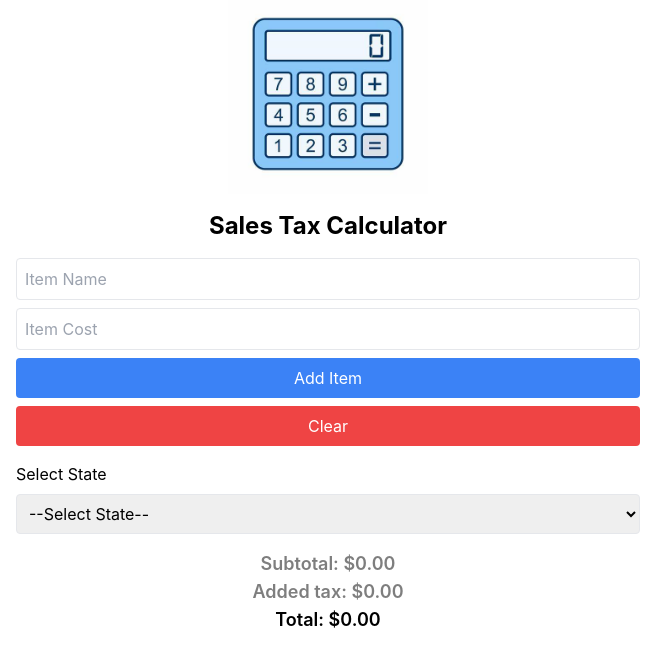
Test: App › clears purchases when Clear button is clicked
Type "Apple" into the field with placeholder "Item Name".
click(328, 279); type("Apple")  # box [16,258,640,300]
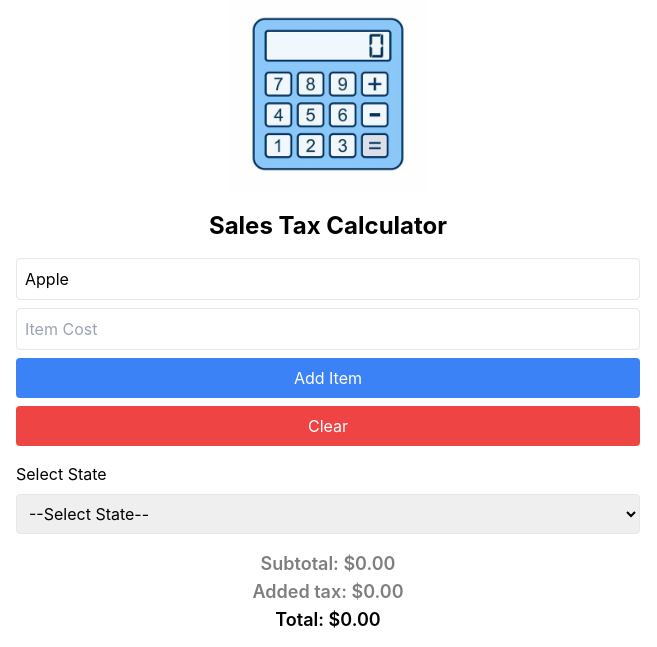
Type "100" into the number field with placeholder "Item Cost".
click(328, 329); type("100")  # box [16,308,640,350]
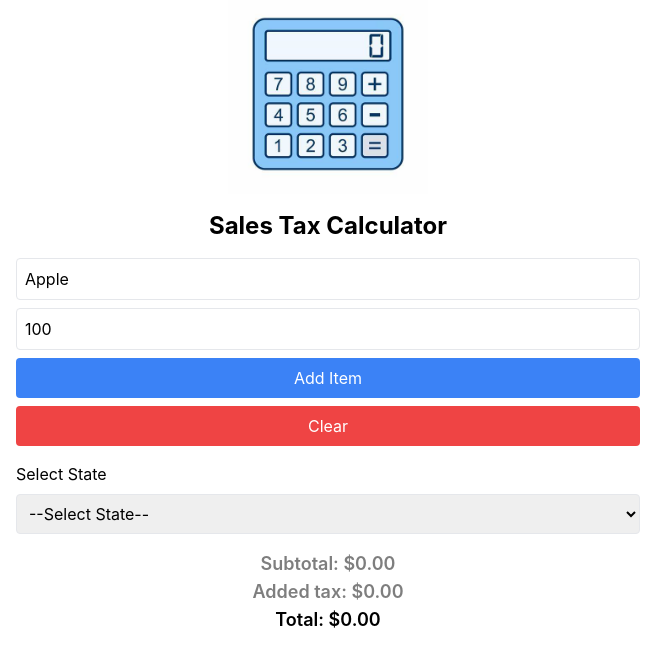
Click the button "Add Item".
click(328, 378)  # box [16,358,640,398]
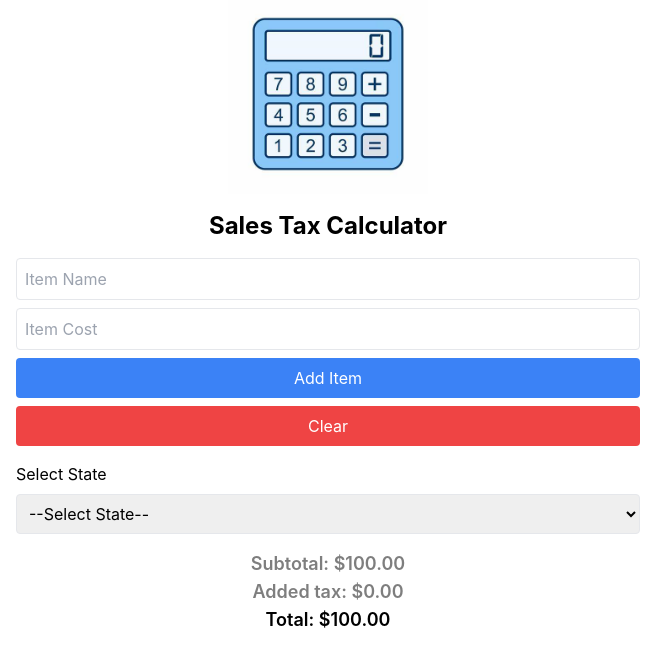
Click the button "Clear".
click(328, 426)  # box [16,406,640,446]
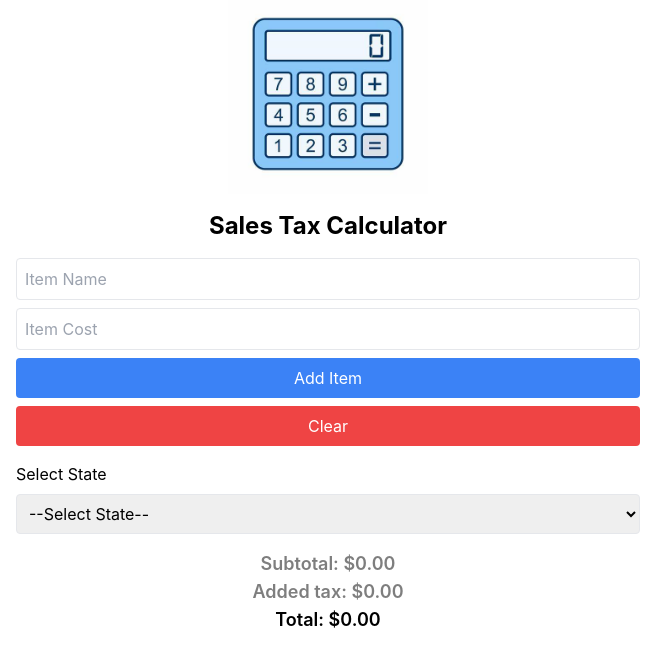
Expected: the text "Added tax: $0.00" is shown, [252,581,404,602]
Expected: the text "Subtotal: $0.00" is shown, [260,553,395,574]
Expected: the heading "Total: $0.00" is shown, [275,609,381,630]
